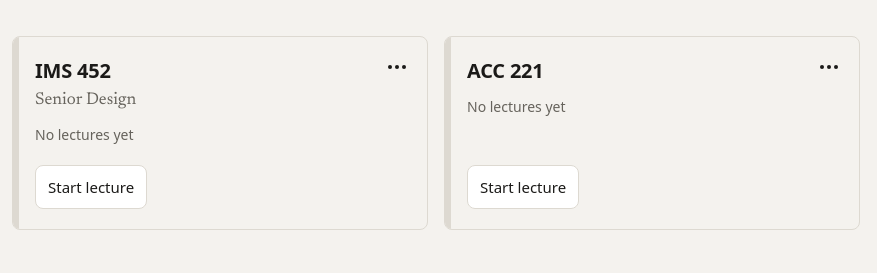
CourseGrid: Archive from a card's ⋯ › archives the course, hides its card at once, says so with Undo and puts the keyboard on Undo
The width and height of the screenshot is (877, 273).
Click the button named "More for IMS 452". click: (397, 67)
box: [375, 45, 419, 89]
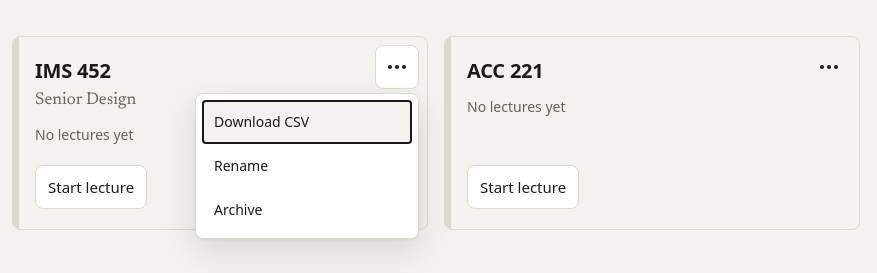
Click the menu item "Archive". click: (307, 210)
box: [202, 188, 412, 232]
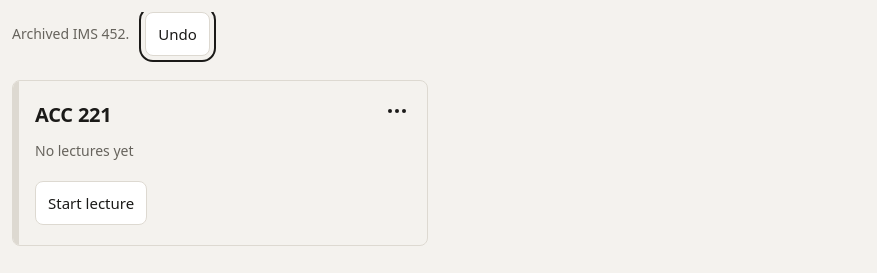
expect the message reads "Archived IMS 452.": met, box [12, 24, 129, 44]
